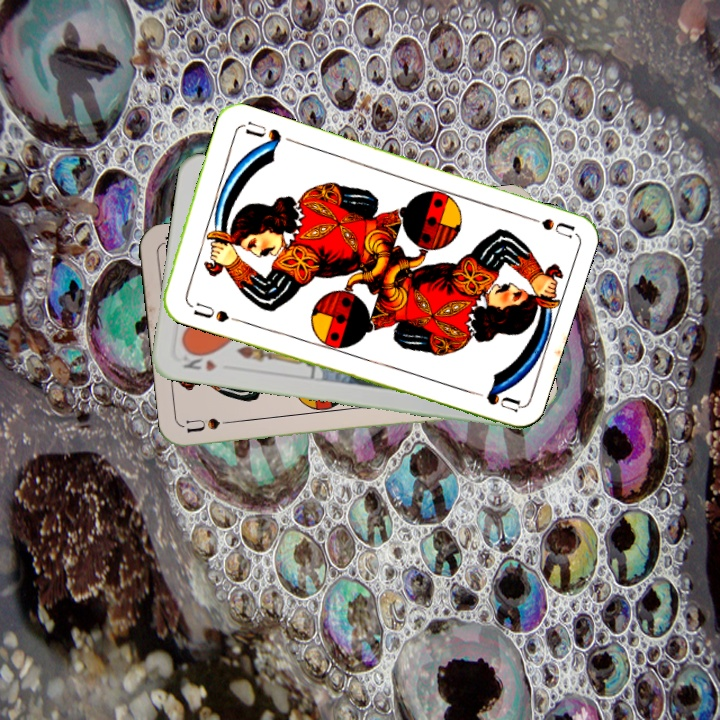HK: (179, 346, 219, 374)
SU: (517, 210, 575, 241), (183, 414, 243, 437), (183, 297, 232, 325)
